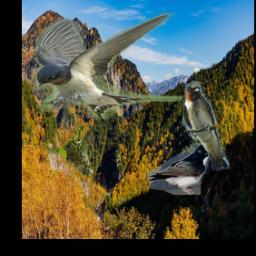Sparrow: (46, 124, 94, 176)
Swallow: (35, 12, 182, 120), (182, 82, 230, 171), (147, 144, 209, 196)
